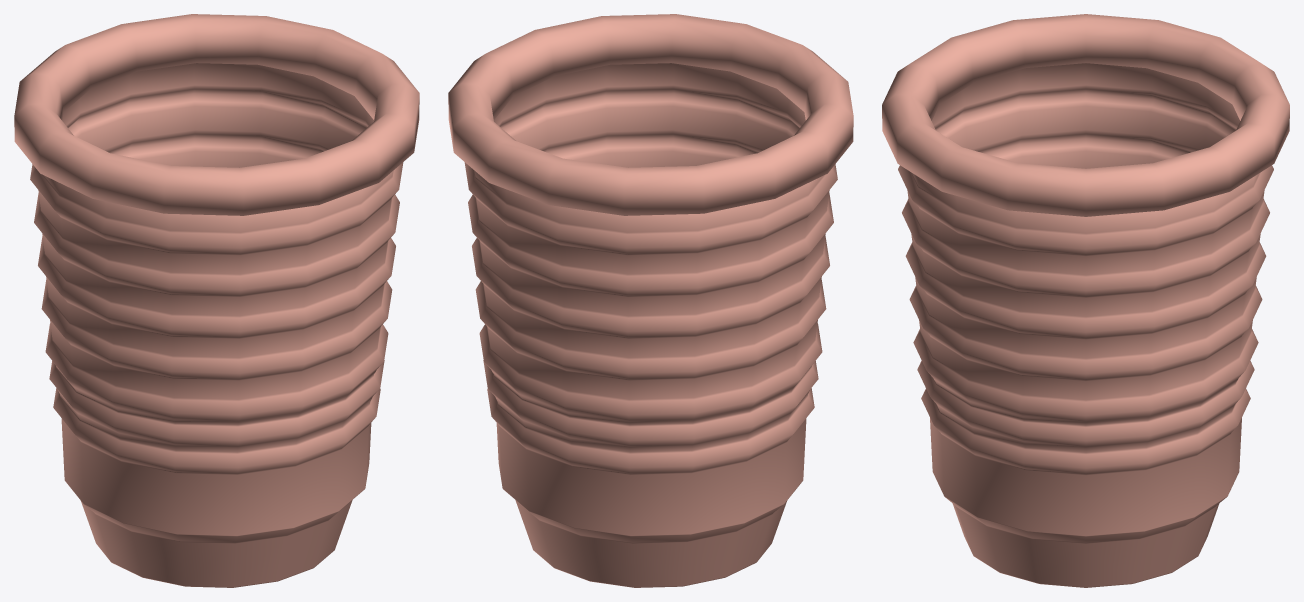
File: cup.fbx
3 views of the same model, side by side, from view 1: azimuth 30°, elevation 25°; view 2: azimuth 150°, elevation 25°; view 3: azimuth 270°, elevation 25° (orthographic).
Parts seen in each view (by area): view 1: cup; view 2: cup; view 3: cup.
Part boxes in pixels (x1,y1,x2,y2): cup: (14,14,419,587); cup: (448,14,853,587); cup: (882,14,1289,587).
Bounding box in the file's own units: 28.37 × 33.93 × 28.37.
